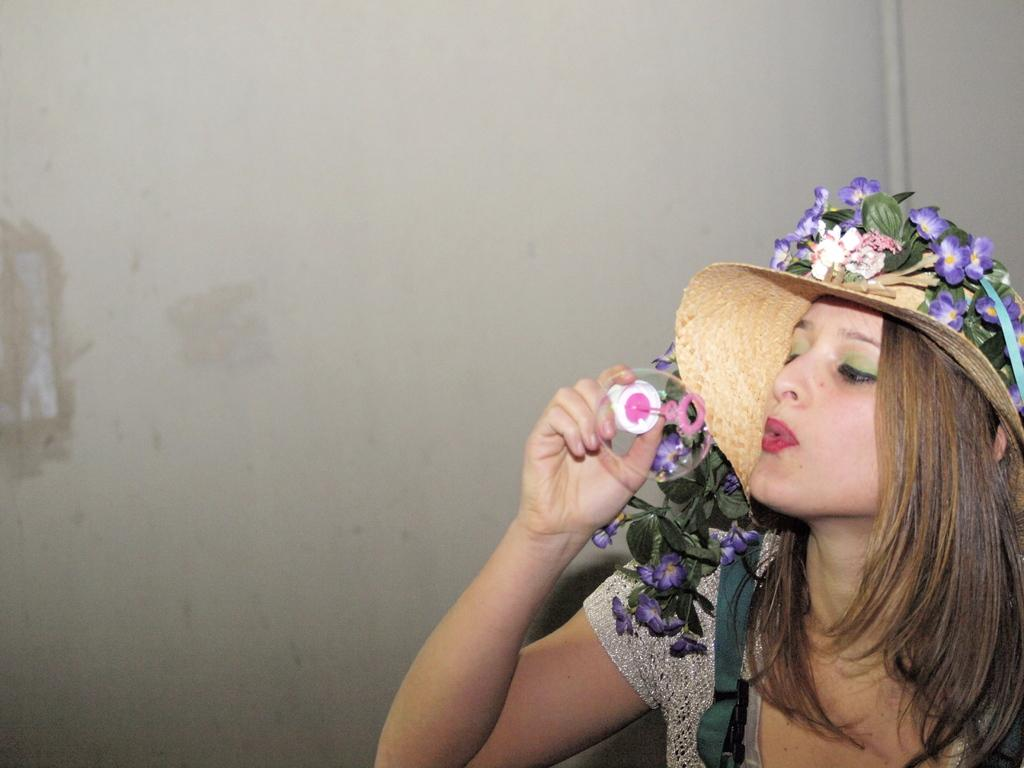Hat: (672, 174, 1023, 518)
